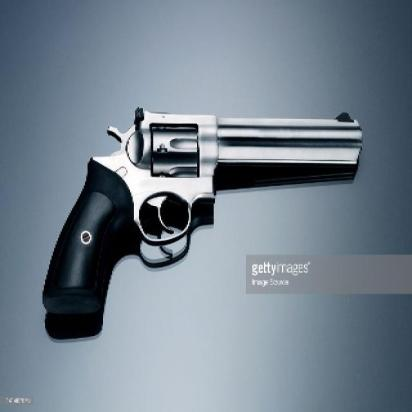Gun: (40, 105, 363, 315)
